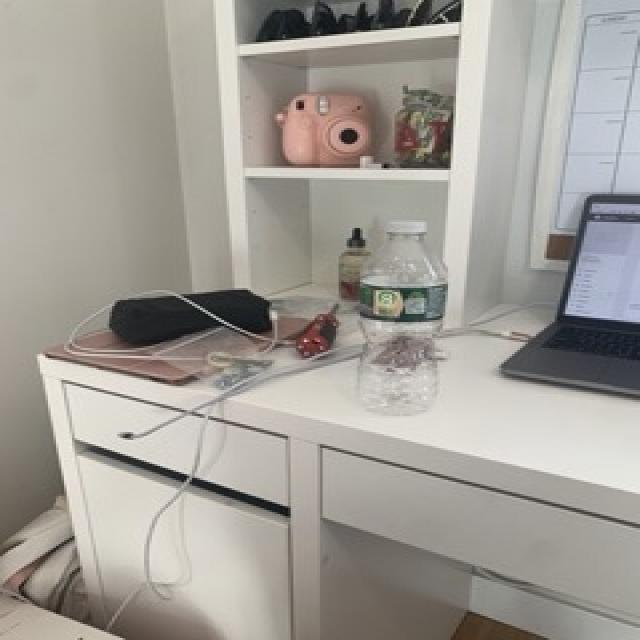water_bottle: (351, 217, 449, 419)
